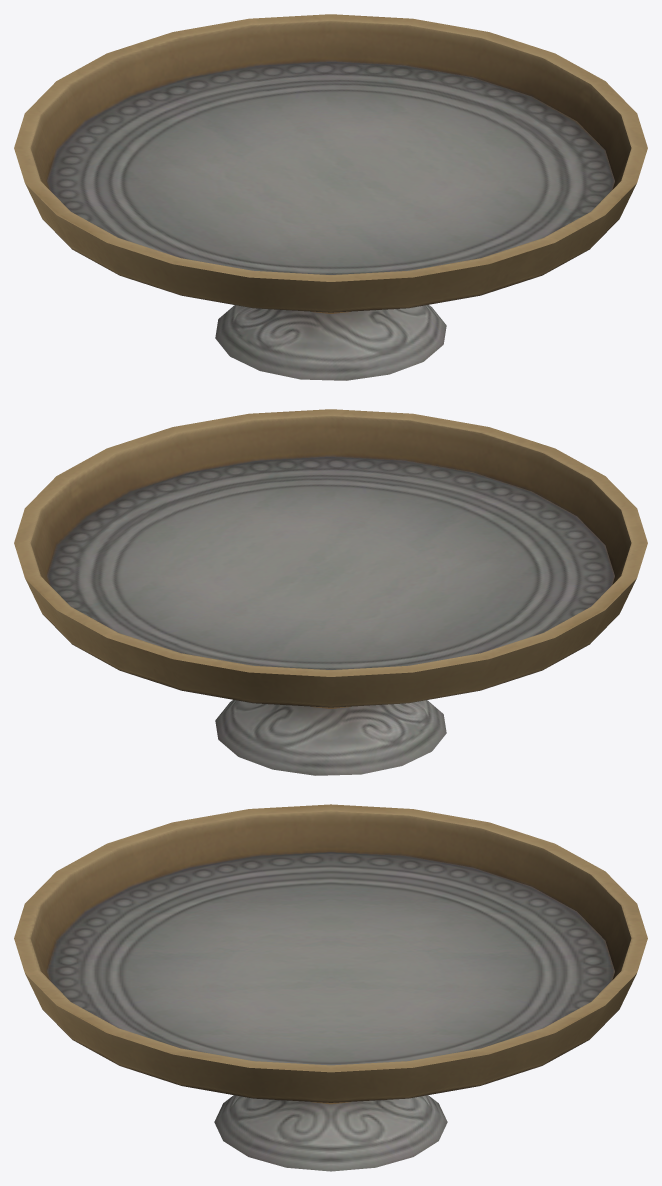
File: luxury_dish_01.fbx
3 views of the same model, one above another, from view 1: azimuth 30°, elevation 25°; view 2: azimuth 150°, elevation 25°; view 3: azimuth 270°, elevation 25° (orthographic).
Parts seen in each view (by area): view 1: luxury_dish_01; view 2: luxury_dish_01; view 3: luxury_dish_01.
Boxes of the visible parts, x1,y1,x2,y2 form: luxury_dish_01: (14,14,647,380); luxury_dish_01: (14,409,647,775); luxury_dish_01: (14,804,647,1171).
Bounding box in the file's own units: 89.46 × 28.62 × 89.46.
